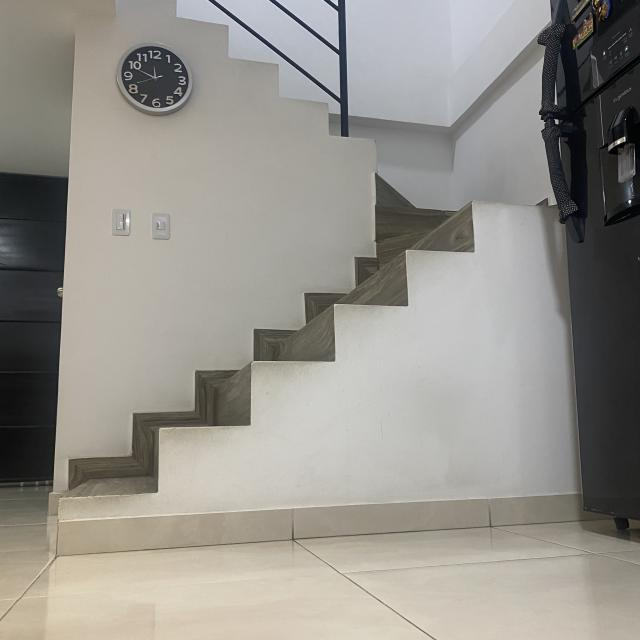stair: (45, 158, 558, 566)
